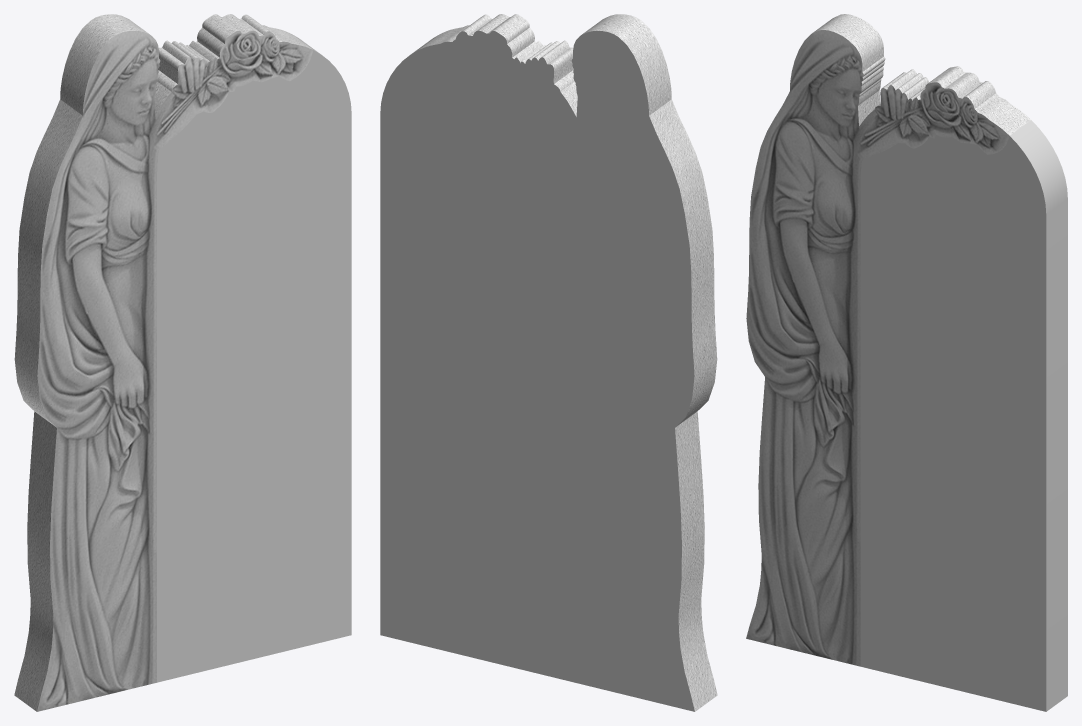
Rendered from cn4c04b46da7_tkf.glb.
The picture shows the model from 3 angles, left to right: view 1: azimuth 30°, elevation 25°; view 2: azimuth 150°, elevation 25°; view 3: azimuth 330°, elevation 25°; orthographic projection. The views are drawn at different scales.
Visible parts, largest first — view 1: Pam-d01-048, Pam-d01-048_2_notexture; view 2: Pam-d01-048, Pam-d01-048_2_notexture; view 3: Pam-d01-048, Pam-d01-048_2_notexture.
Boxes of the visible parts, x1,y1,x2,y2 form: Pam-d01-048: [157, 34, 351, 682]; Pam-d01-048_2_notexture: [14, 14, 313, 711]; Pam-d01-048: [380, 30, 694, 711]; Pam-d01-048_2_notexture: [419, 14, 717, 711]; Pam-d01-048: [860, 120, 1067, 711]; Pam-d01-048_2_notexture: [746, 14, 1030, 666].
Bounding box in the file's own units: 0.4 × 0.8 × 0.05.
1 material, 1 textured.
